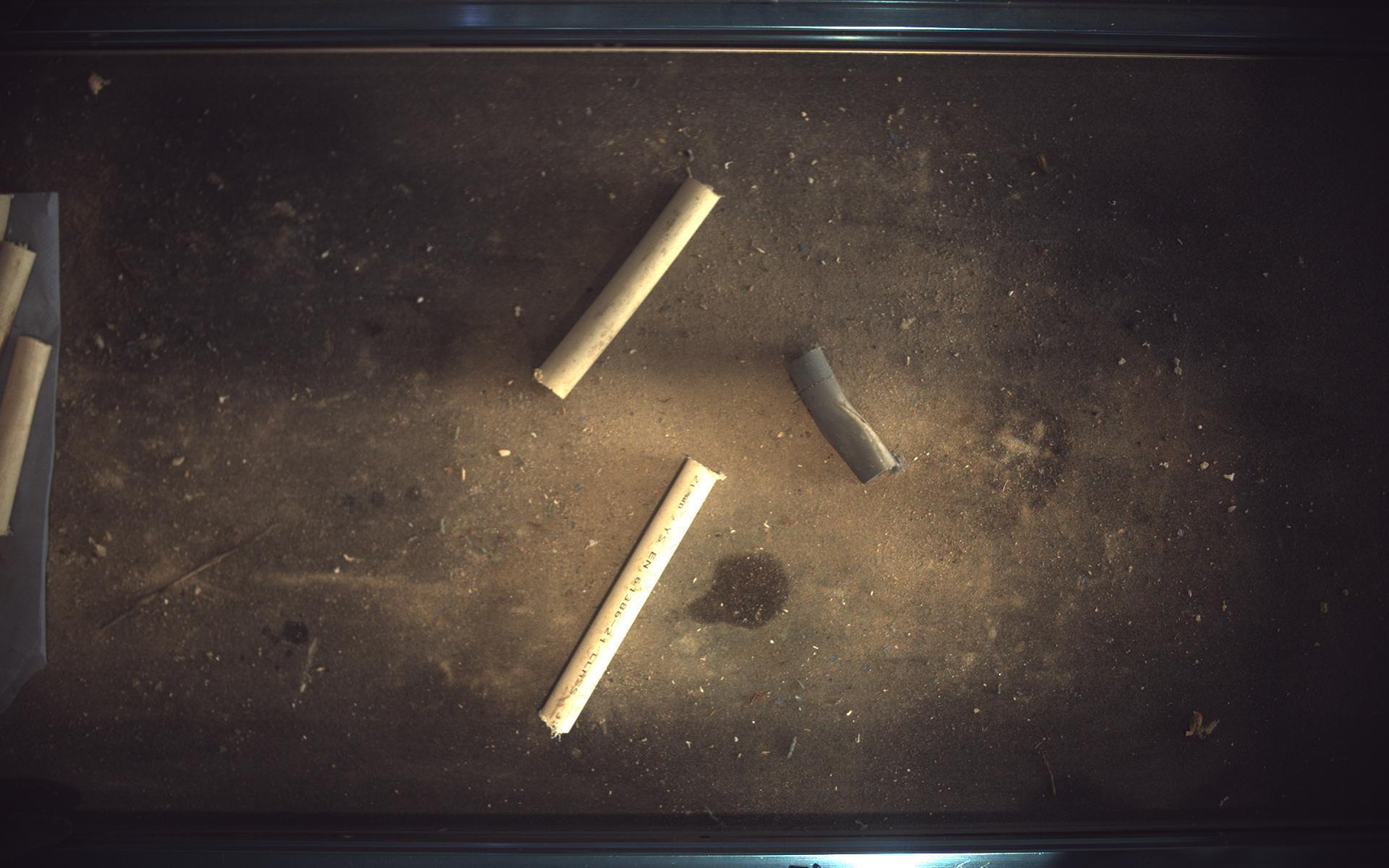pipes: (540, 459, 724, 738), (535, 176, 721, 399), (790, 346, 908, 483)
